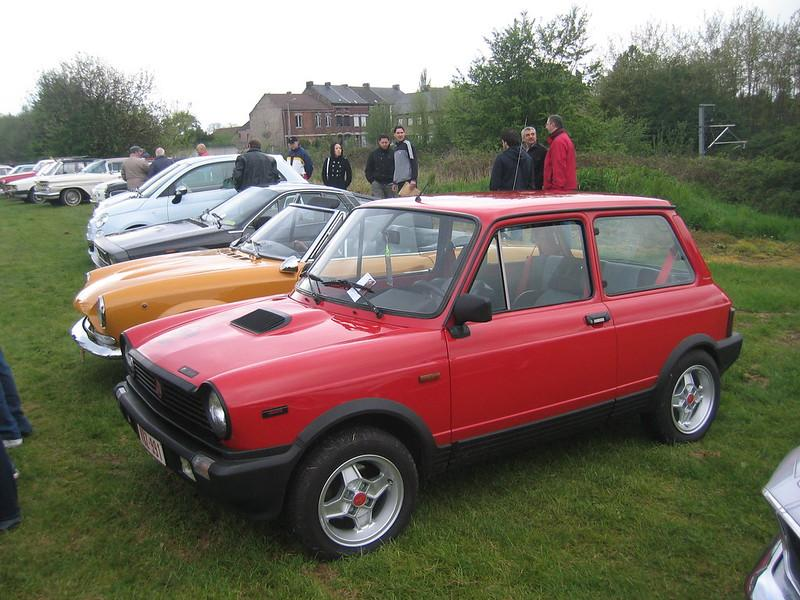windshield: (289, 202, 486, 327)
